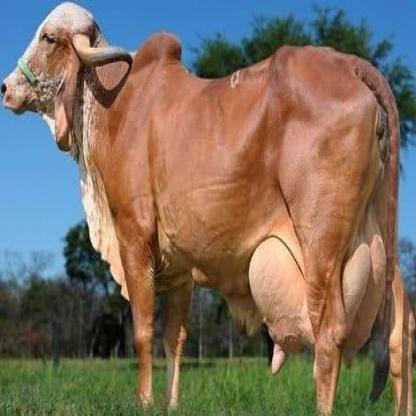cow: (2, 1, 413, 416)
